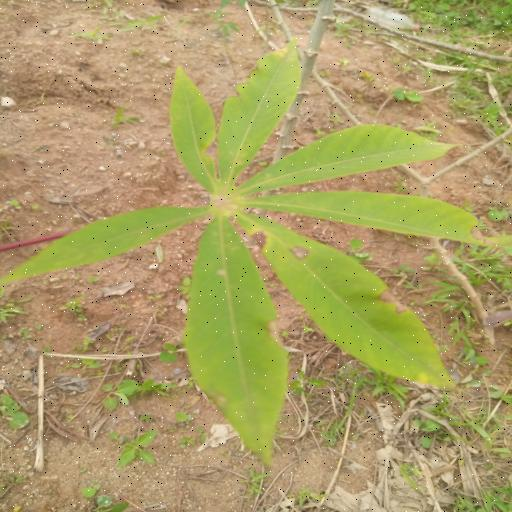Cassava_Brown_Leaf_Spot: (4, 51, 510, 462)
